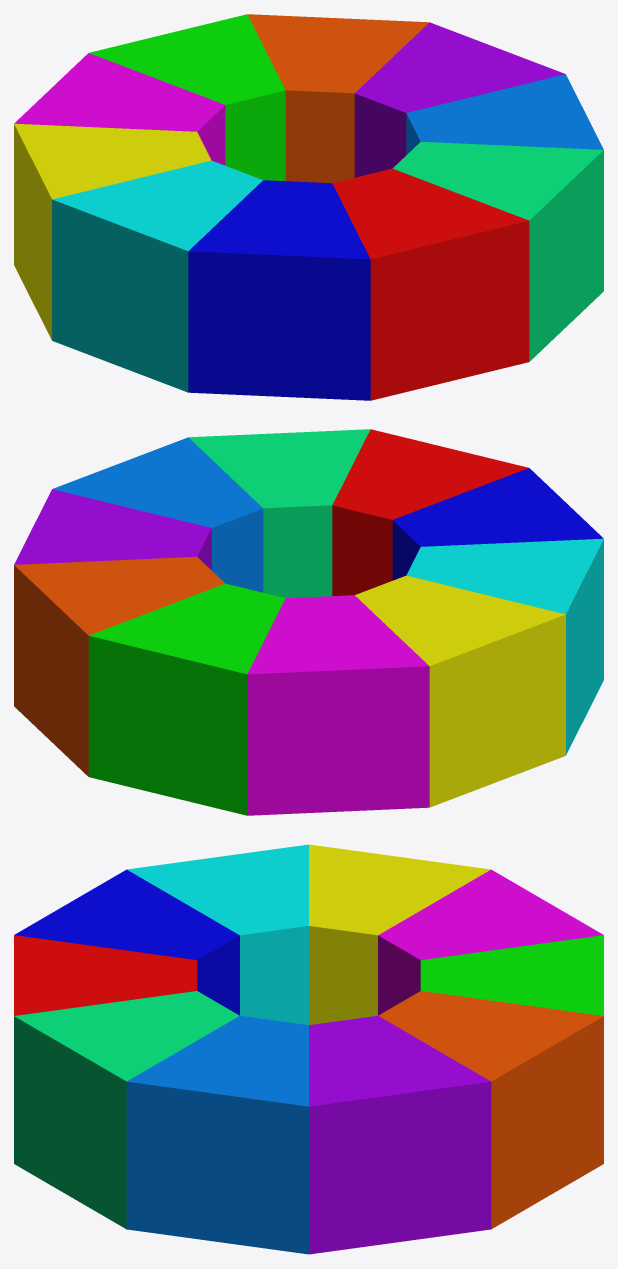
Rendered from Lockwheel.glb.
3 renders of one model, top to bottom at view 1: azimuth 30°, elevation 25°; view 2: azimuth 150°, elevation 25°; view 3: azimuth 270°, elevation 25°, orthographic. The views are drawn at different scales.
Visible parts, largest first — view 1: wheel4; view 2: wheel4; view 3: wheel4.
Part boxes in pixels (box(x1,y1,x2,y2)): wheel4: box(14, 14, 603, 400); wheel4: box(14, 429, 603, 815); wheel4: box(14, 844, 603, 1254).
Size of the model in its own units: 0.1852 by 0.0487 by 0.1762.
